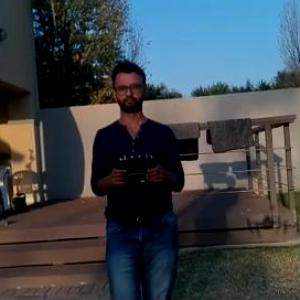follow: (85, 55, 189, 299)
